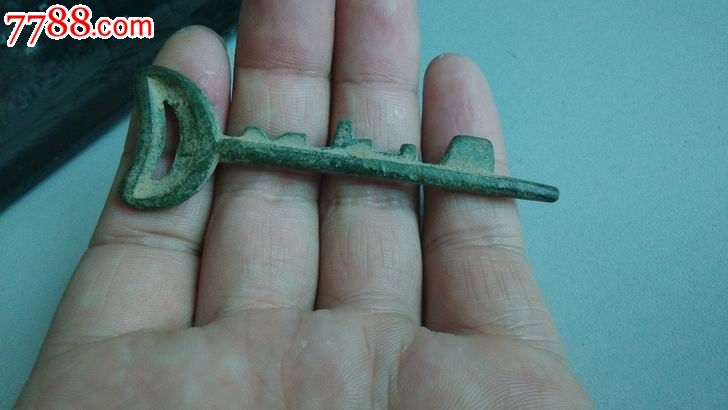key: (103, 62, 563, 212)
